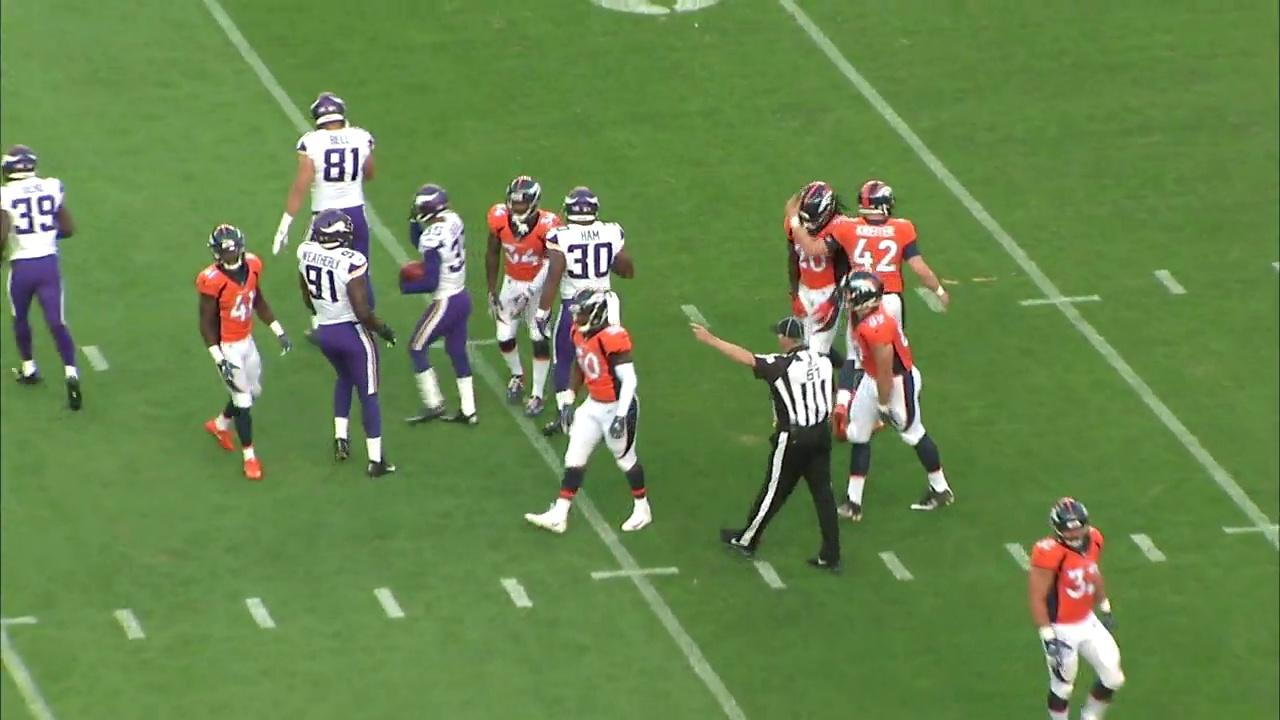five_hash: (1010, 282, 1104, 315), (582, 566, 689, 582), (1218, 514, 1280, 537)
hash: (229, 588, 285, 638), (366, 577, 414, 633), (1122, 521, 1176, 570), (871, 541, 924, 588), (1144, 256, 1198, 299), (491, 571, 540, 613), (110, 599, 153, 646), (745, 555, 792, 596), (999, 535, 1036, 574)
